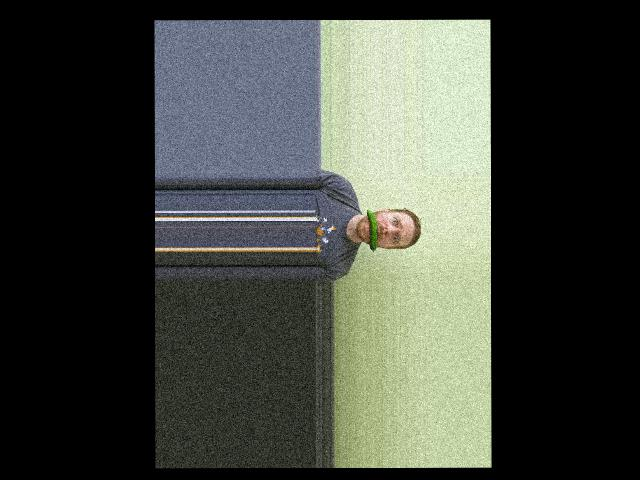cucumber: (366, 209, 377, 252)
